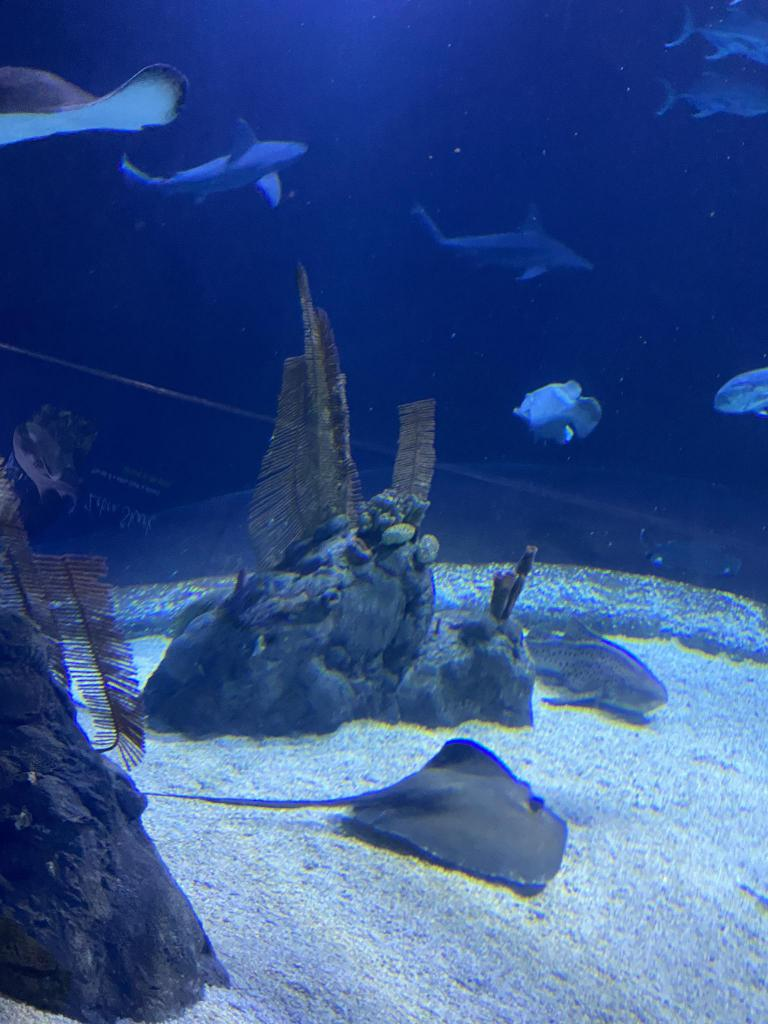Fish: (525, 617, 665, 711), (514, 380, 603, 445), (717, 367, 766, 410)
Shark: (118, 109, 310, 238), (411, 192, 598, 285)
Stringray: (135, 740, 565, 886), (0, 64, 188, 147)
